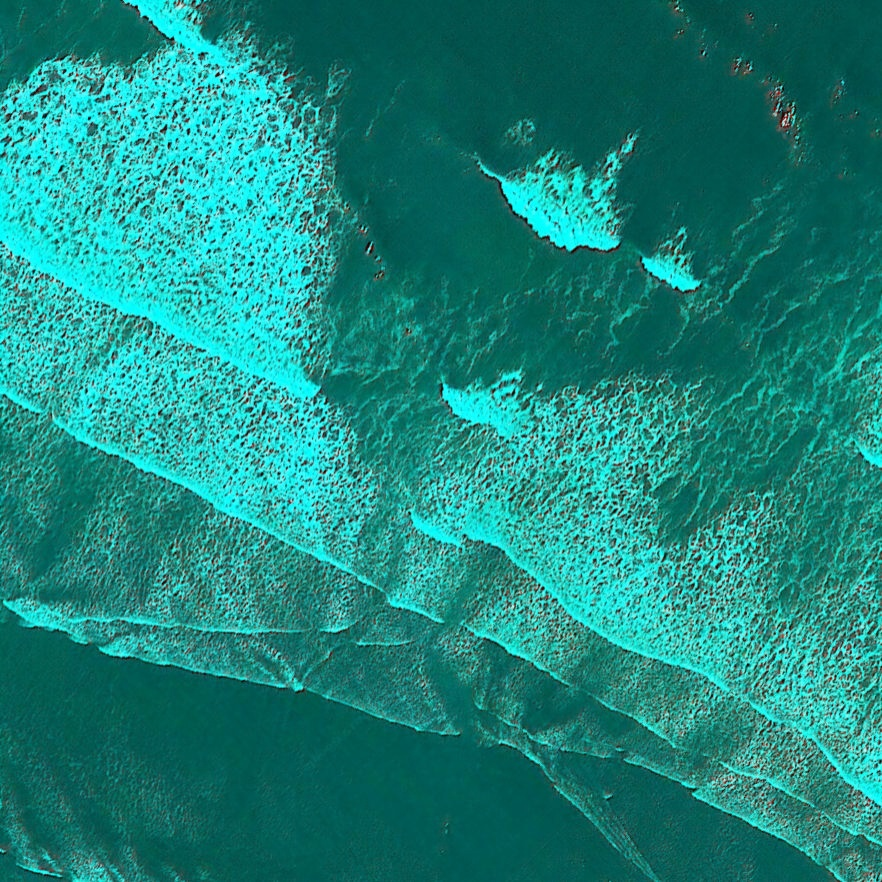rip_current: (257, 126, 619, 652)
